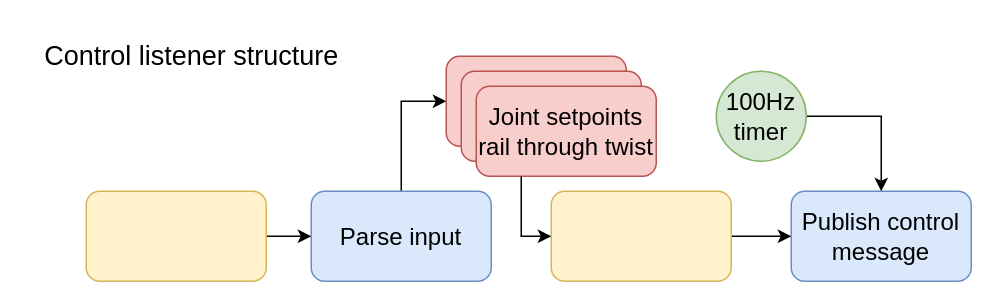
The diagram is 998 pixels wide and 308 high, and some of its shapes have lost their labels. Here are the shapes that lost their labels. From the top down, the box of each, then its label:
(85, 190, 266, 281): Controller state message
(550, 190, 731, 281): Control message
